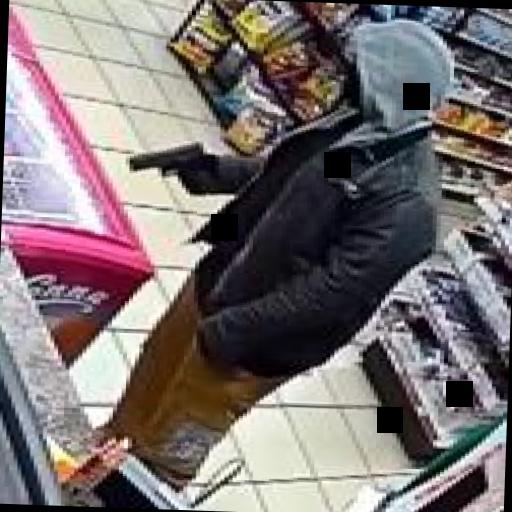Handgun: (124, 136, 207, 192)
